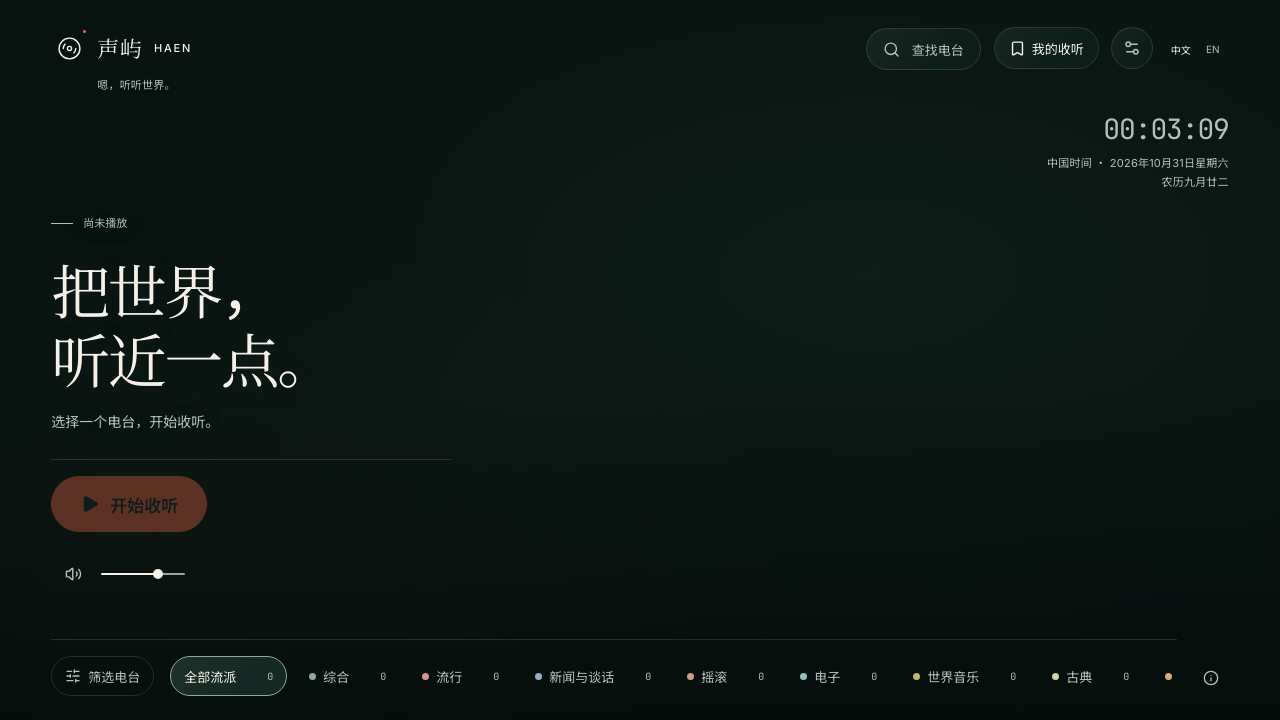
it: radio application entry › offers an accessible retry and recovers from a failed directory request
The width and height of the screenshot is (1280, 720).
Step 1. Click the button "查找电台" → (923, 49), box [866,28,981,70]
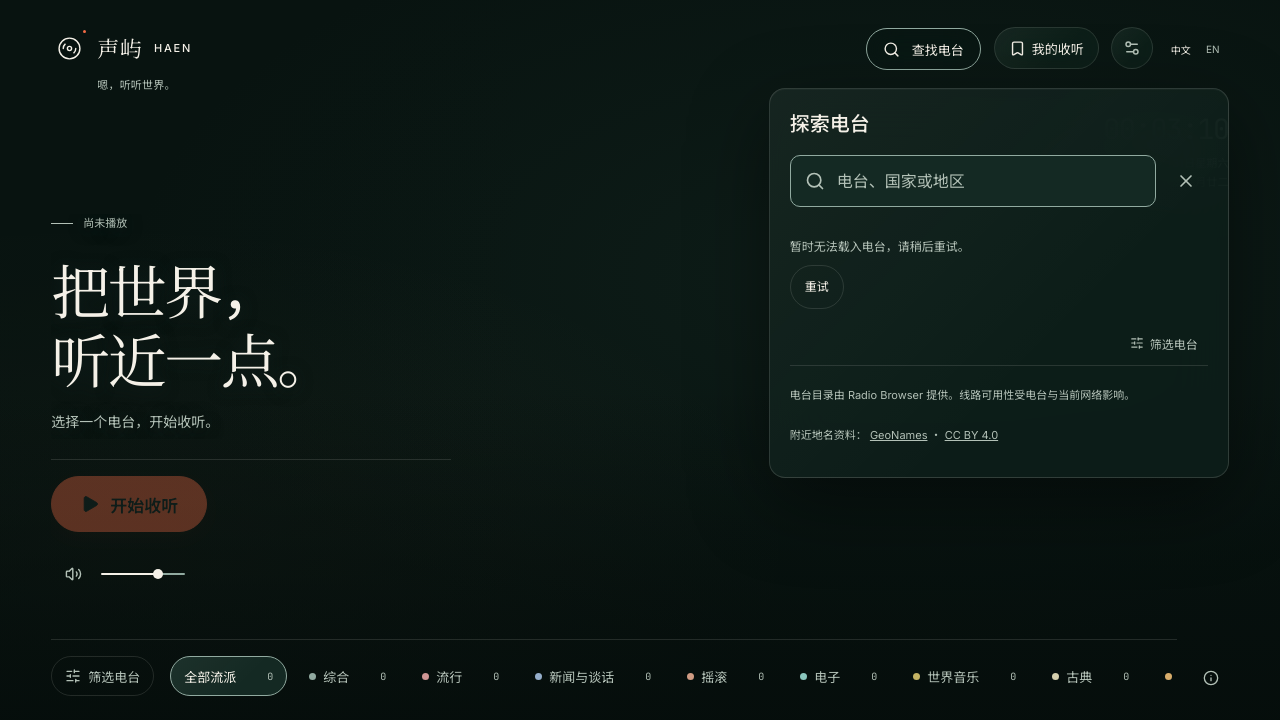
Step 2. Click the button "重试" → (817, 287), box [790,265,844,309]
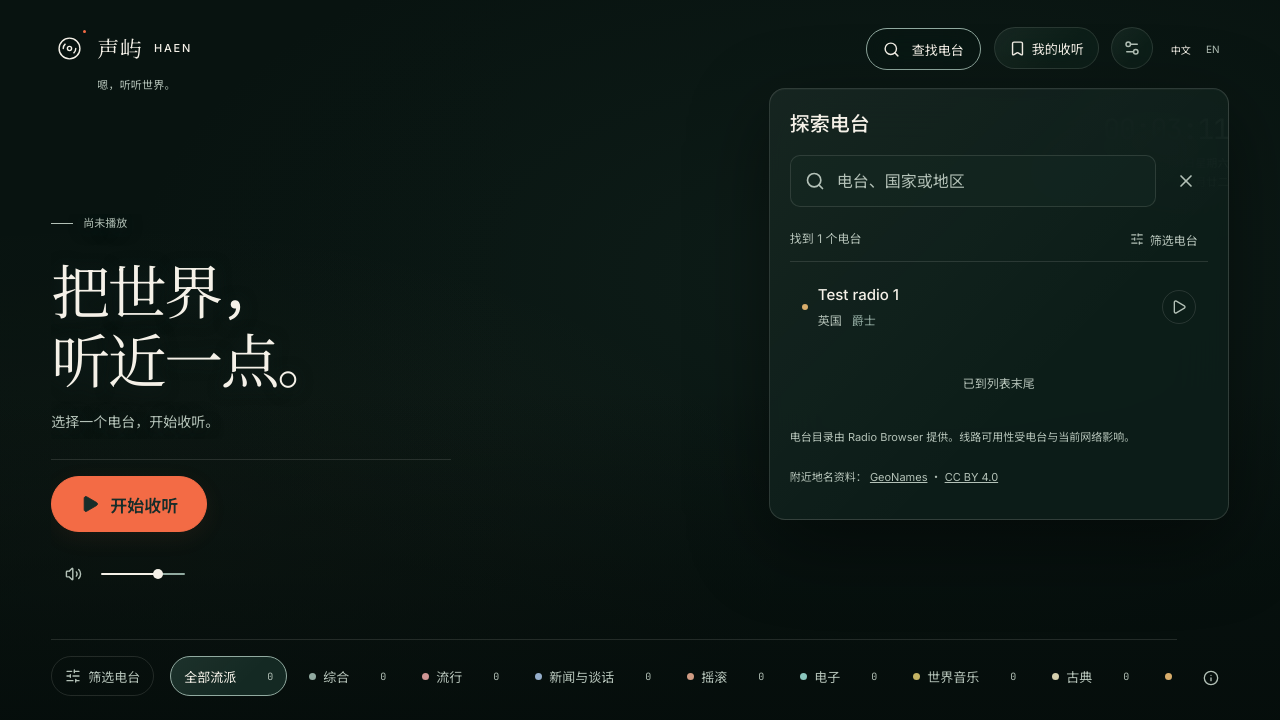
Result: the button with aria-label "收听 Test radio 1 英国 爵士" is shown at [790,266,1208,348]
